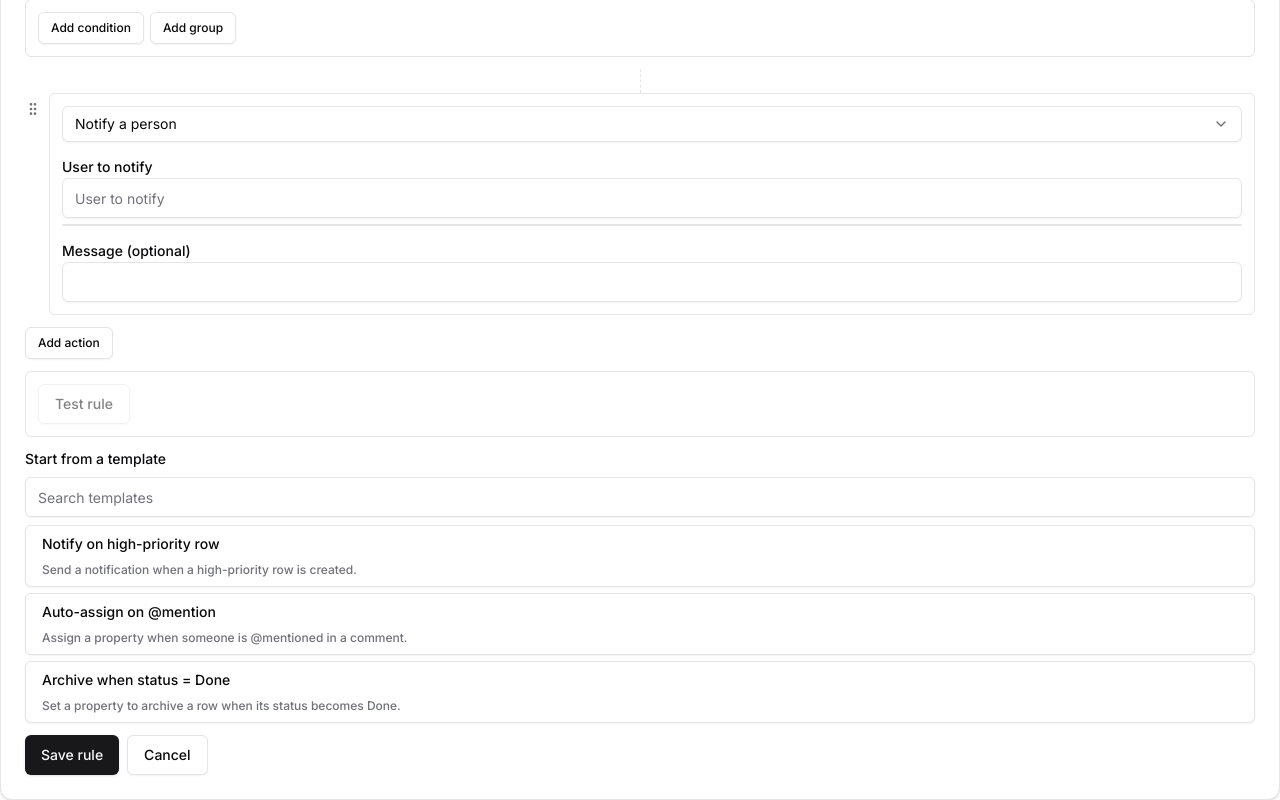
Save with an empty name shows the inline error and does NOT POST
(page scrolled)
Click the button "Save rule": click(72, 755) [25,735,119,775]
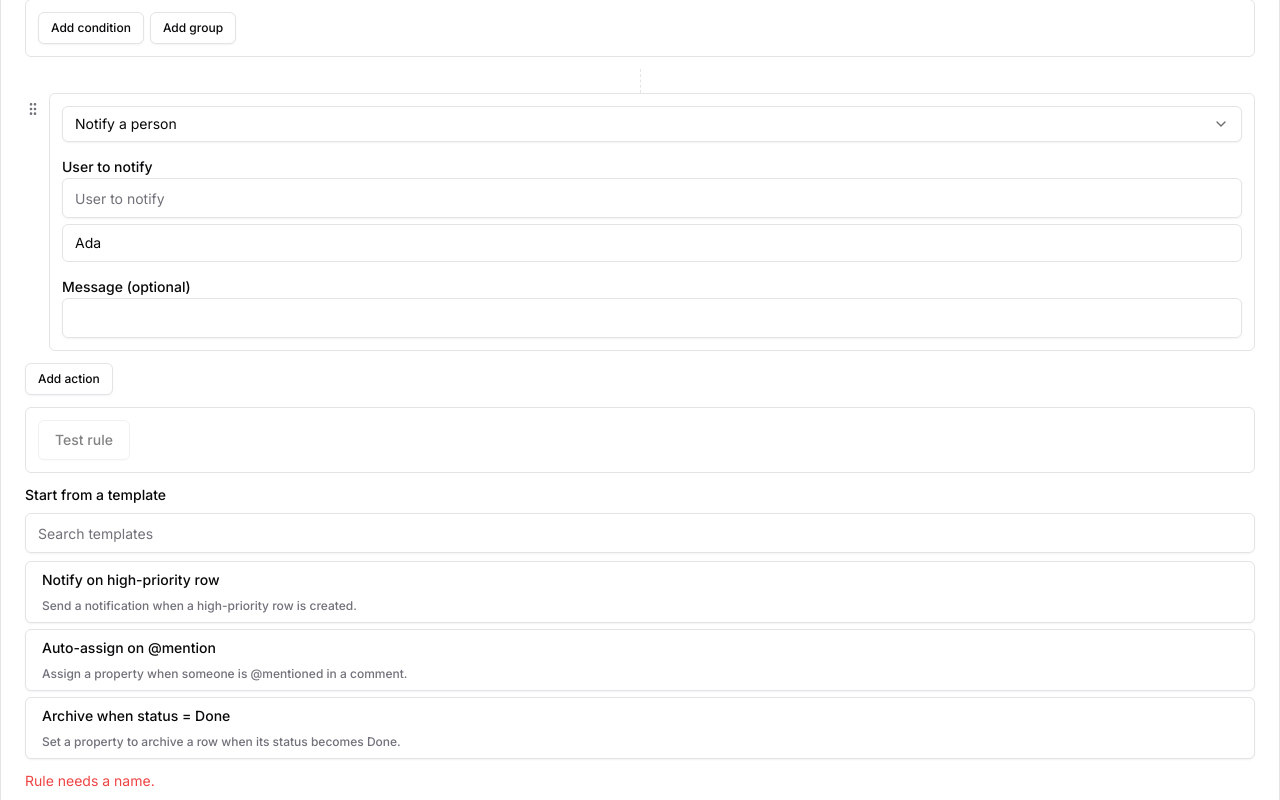
Expected: the text "Rule needs a name." is shown, [25,772,155,789]
